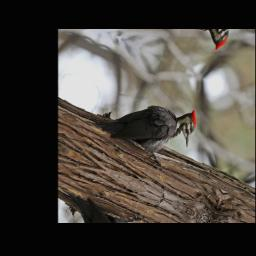Woodpecker: (82, 66, 201, 178)
